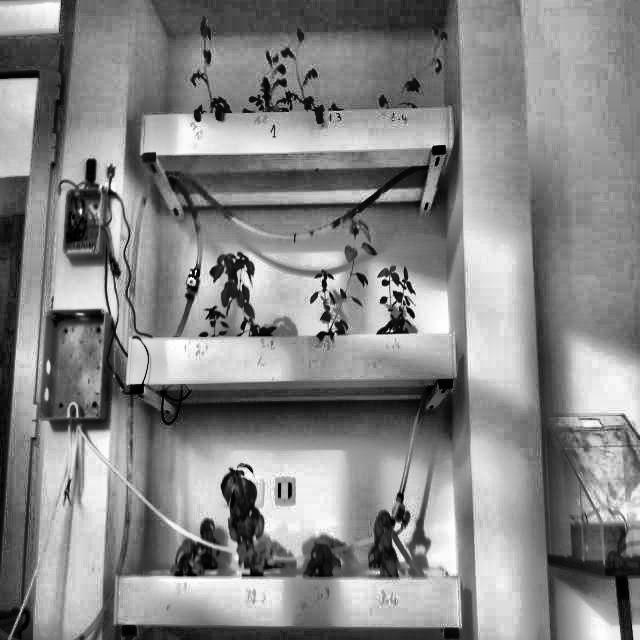plants: (217, 460, 272, 577), (376, 27, 450, 110), (324, 220, 377, 335), (214, 250, 280, 338), (187, 15, 240, 116), (284, 22, 338, 112), (240, 52, 292, 115), (376, 266, 416, 332), (306, 264, 343, 333), (370, 508, 400, 578), (306, 539, 346, 576), (172, 536, 203, 577), (198, 515, 220, 572), (197, 302, 231, 338)
